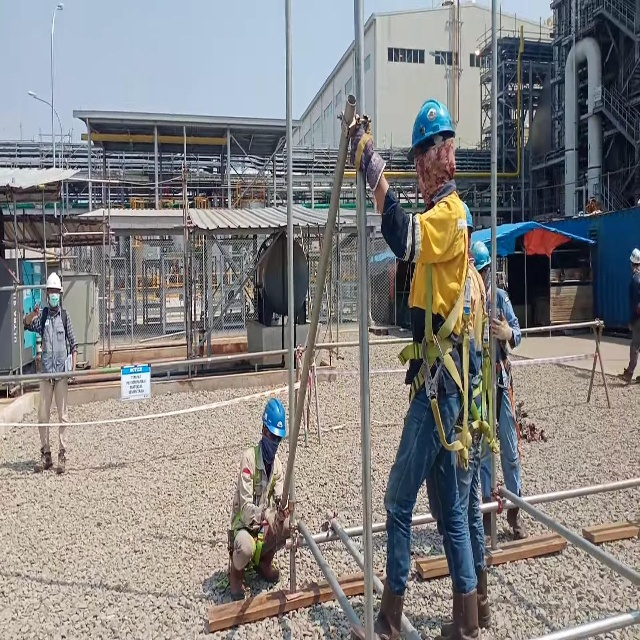Arnes_seguridad: (402, 261, 475, 468), (225, 441, 278, 579), (471, 257, 501, 463), (497, 330, 523, 460)
